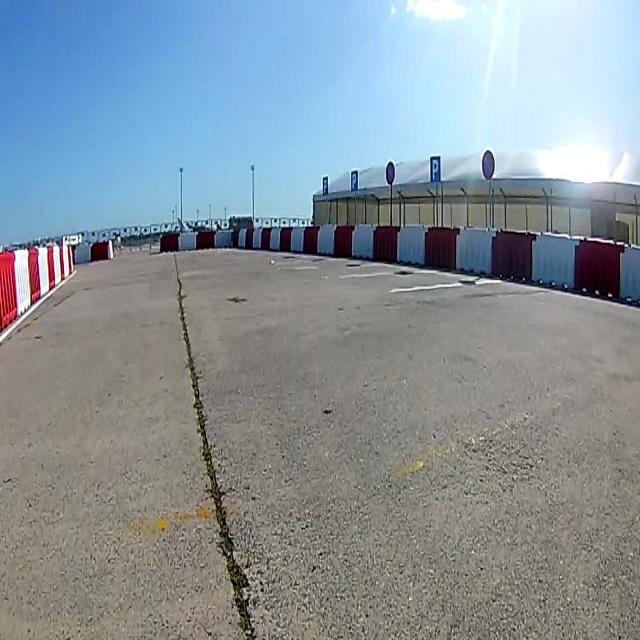park: (429, 156, 441, 182), (351, 171, 358, 192), (322, 177, 328, 195)
parkyasak: (481, 150, 495, 180), (385, 160, 395, 183)
